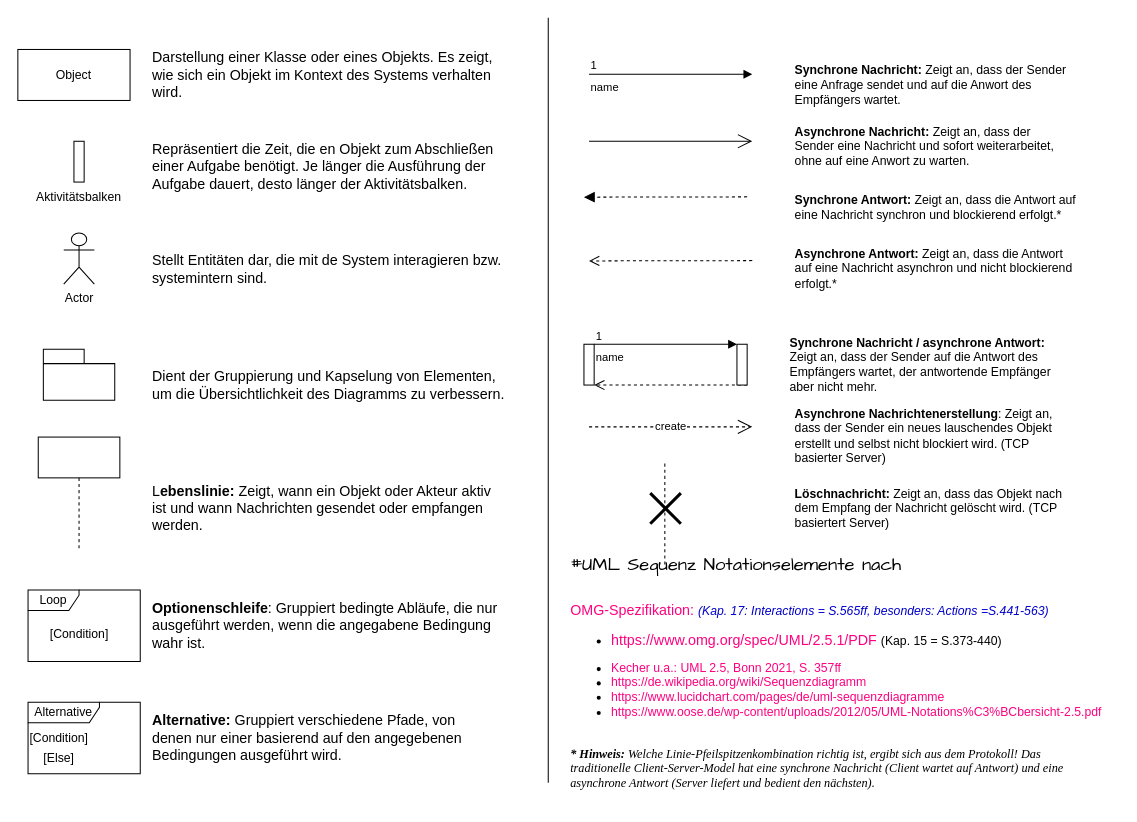
Image size: 1137x822. Some labels were removed from this diagram. The shapes that lost their labels are listed below. From the top down, each one's centre as x and y in pixels, then its label:
At [78,374]: "package".
At [78,492]: ":Object".
